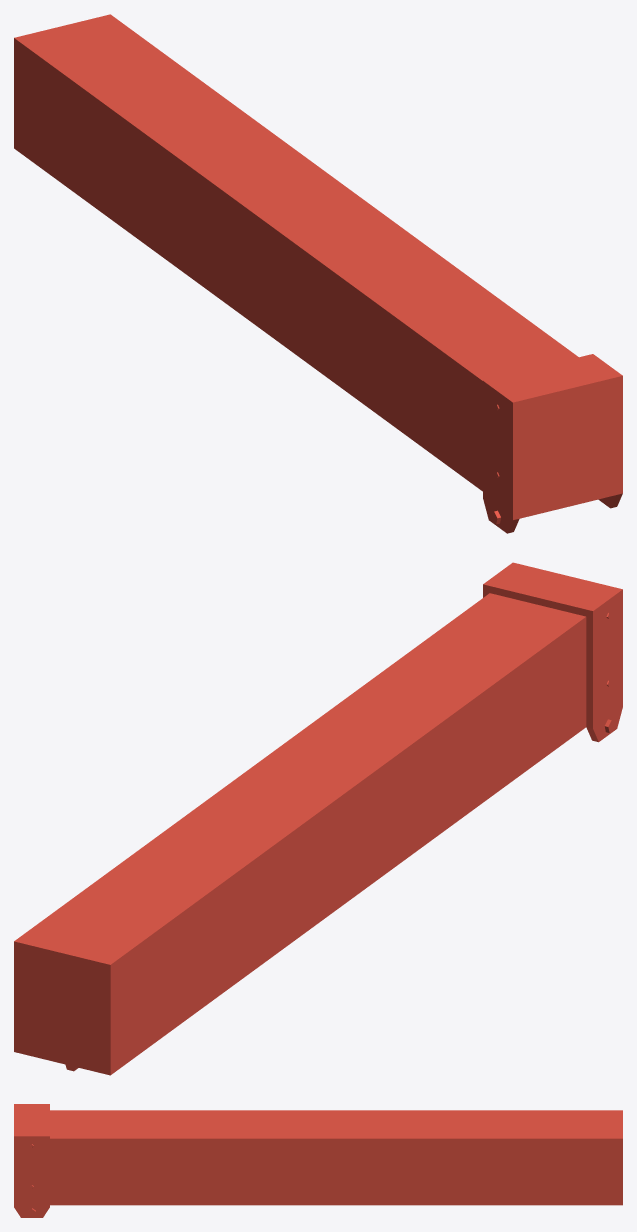
The model's file is SM_Camera_Crane_Arm_B.fbx.
3 renders of one model, top to bottom at view 1: azimuth 30°, elevation 25°; view 2: azimuth 150°, elevation 25°; view 3: azimuth 270°, elevation 25°, orthographic. The views are drawn at different scales.
Visible parts, largest first — view 1: SM_Camera_Crane_Arm_B; view 2: SM_Camera_Crane_Arm_B; view 3: SM_Camera_Crane_Arm_B.
Boxes of the visible parts, x1,y1,x2,y2 form: SM_Camera_Crane_Arm_B: [14, 14, 622, 533]; SM_Camera_Crane_Arm_B: [14, 562, 622, 1075]; SM_Camera_Crane_Arm_B: [14, 1104, 622, 1217].
Size of the model in its own units: 263 by 35.34 by 38.88.
